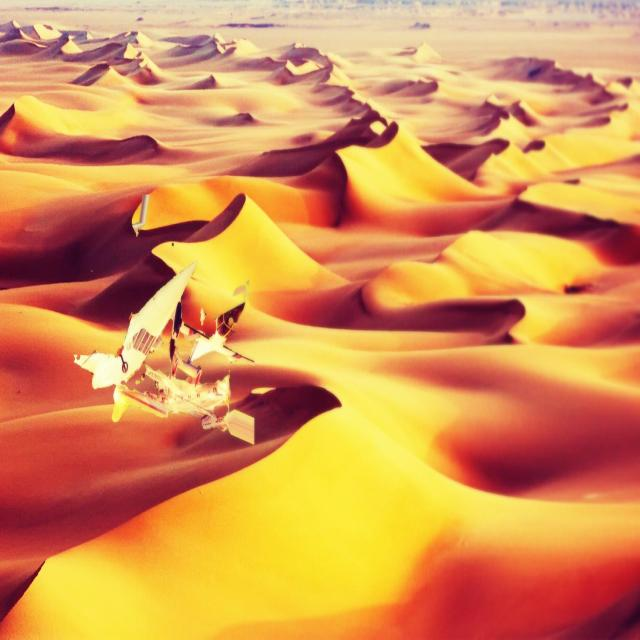airplane: (72, 258, 255, 448)
